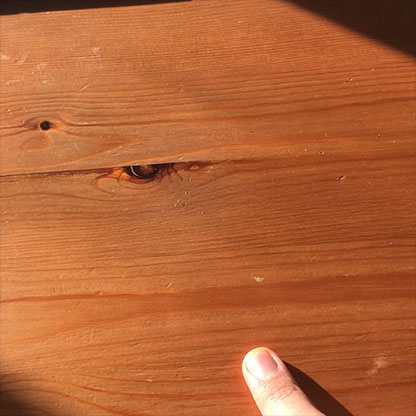fingertip: (236, 340, 290, 391)
